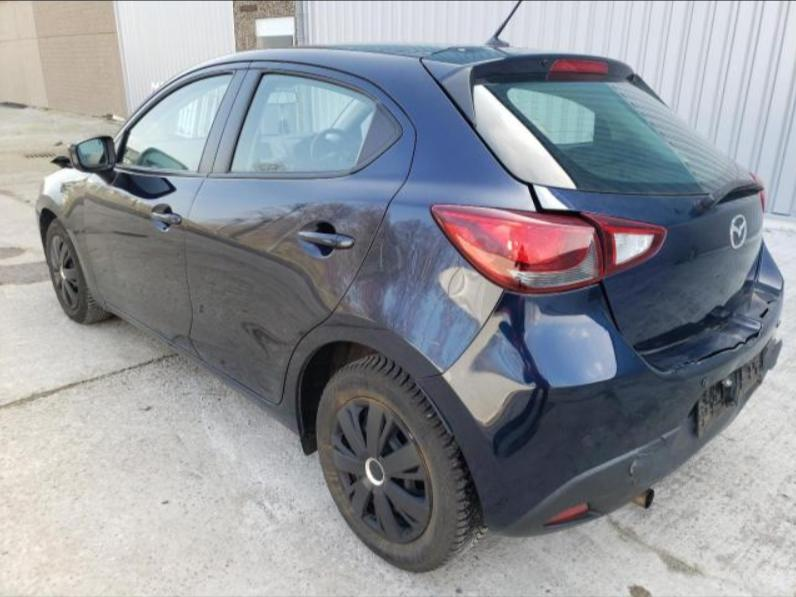Broken part: (414, 243, 786, 539), (522, 183, 606, 268)
Missing part: (698, 348, 764, 435)
Paint chip: (408, 432, 413, 439)
Scratch: (629, 436, 666, 477), (386, 234, 403, 266), (352, 313, 377, 324), (428, 340, 441, 346), (379, 244, 382, 268)
